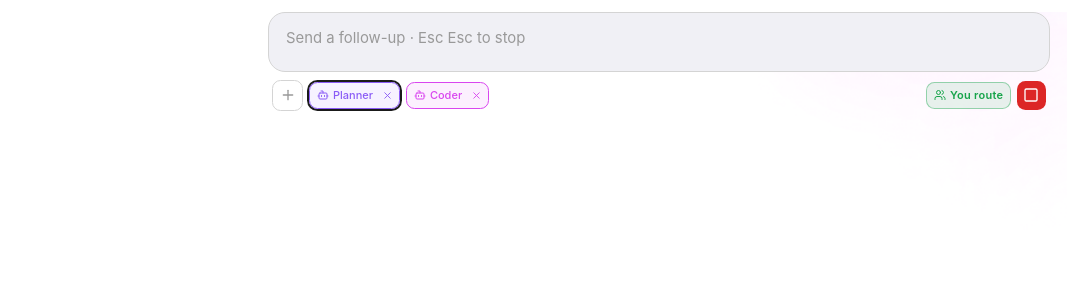
it: the agent chip menu › disables Set as Coordinator while a turn runs, with main's own reason under it
Right-click the element showing "Coder" at (448, 95), box [406,82,489,109]
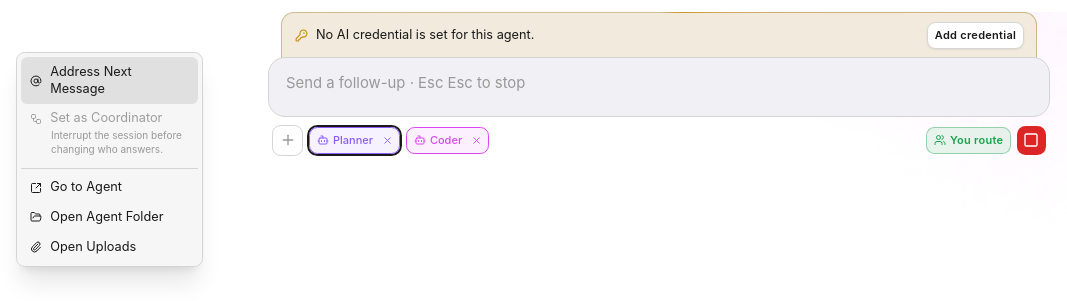
Expected: the menu item "Set as Coordinator" is disabled, [21,104,198,134]
